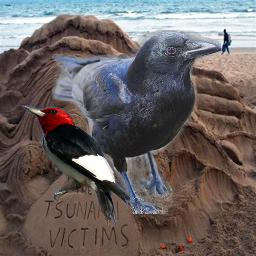Crow: (52, 30, 221, 214)
Woodpecker: (20, 105, 134, 230)
